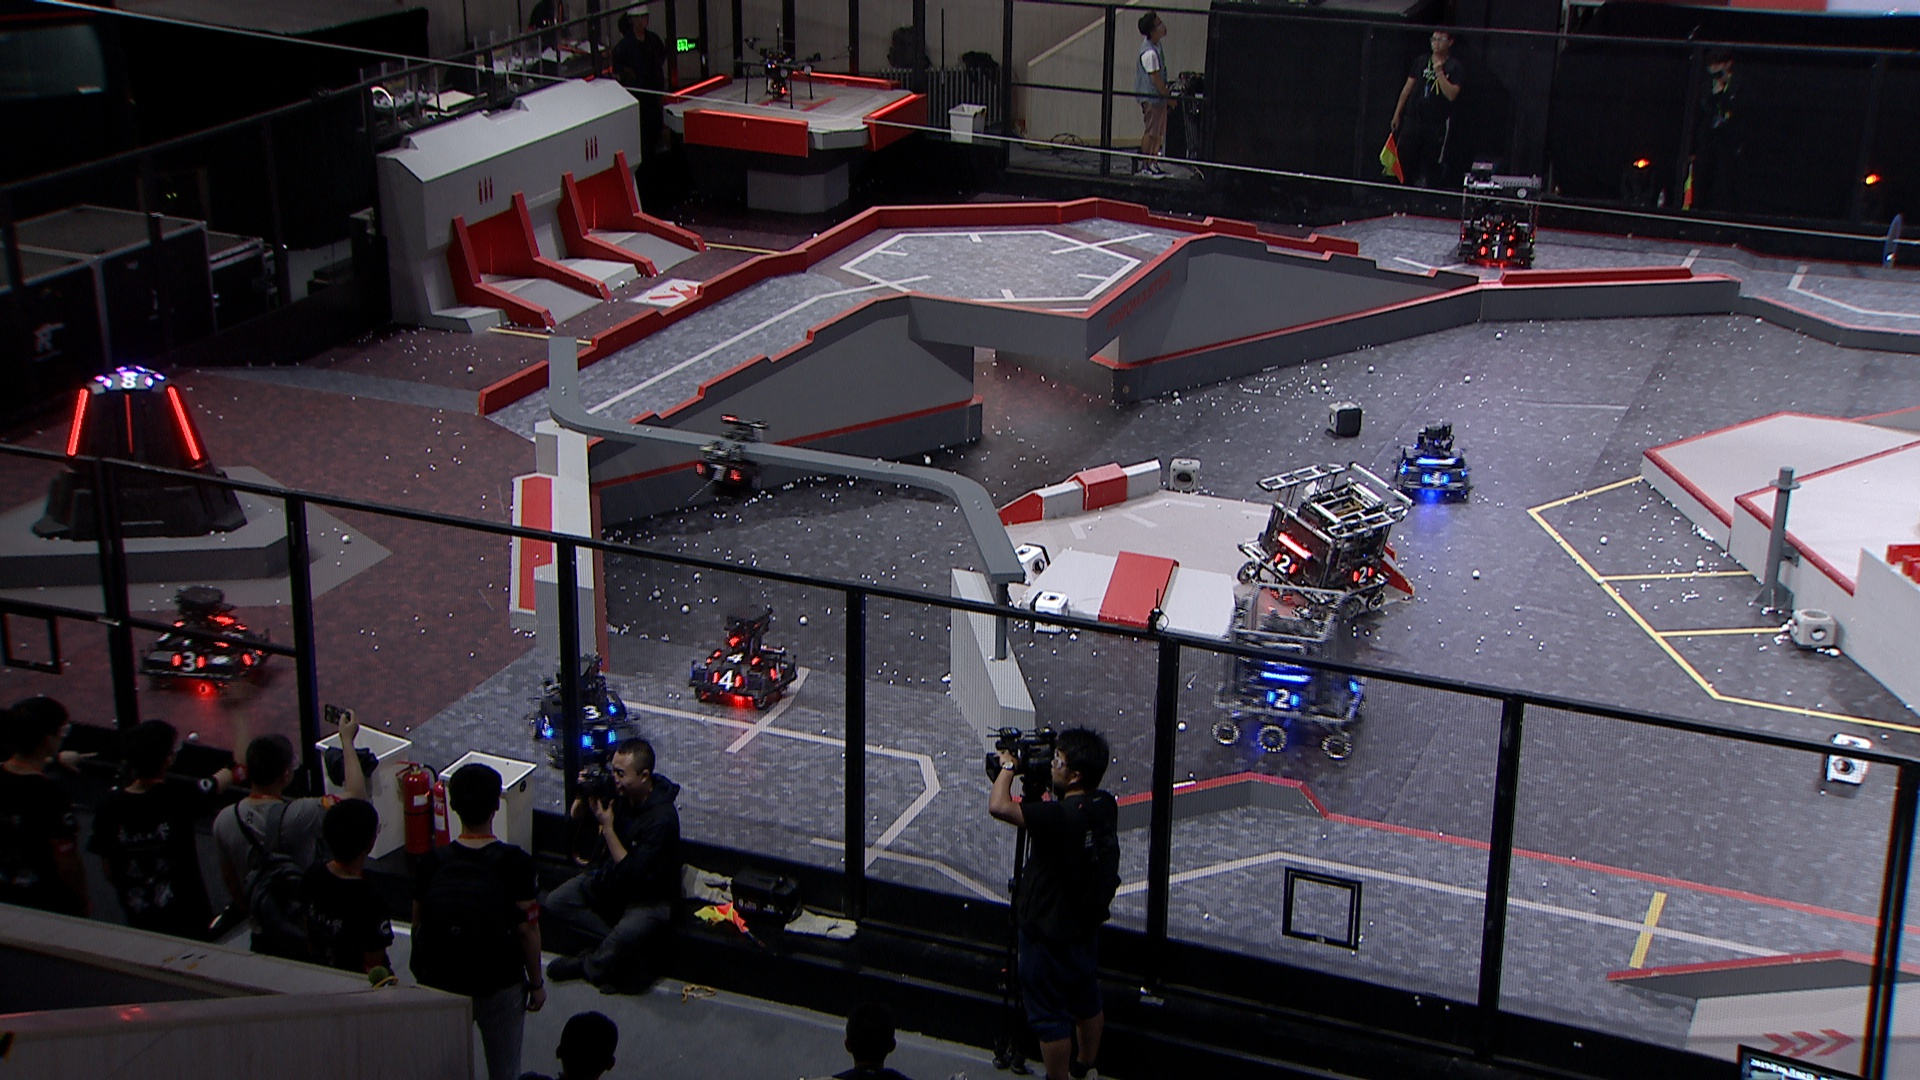armor: (162, 382, 200, 462), (63, 386, 88, 462), (694, 460, 742, 484), (574, 699, 618, 723), (1265, 684, 1302, 711), (711, 647, 760, 666), (214, 622, 245, 650), (171, 650, 206, 673), (1273, 549, 1299, 578), (123, 394, 135, 455), (709, 669, 745, 688), (1477, 243, 1514, 258), (1348, 564, 1375, 585), (1423, 469, 1451, 491), (237, 646, 266, 665), (534, 713, 555, 738), (766, 659, 789, 680), (1481, 232, 1516, 243), (1394, 456, 1408, 476)
base: (34, 360, 247, 542)
car: (1233, 463, 1416, 622), (1211, 575, 1367, 757), (135, 582, 273, 690), (522, 655, 642, 766), (688, 605, 800, 712), (1455, 161, 1543, 272), (1387, 418, 1472, 505)
ignore: (102, 373, 156, 392)
watcher: (690, 411, 767, 510)
